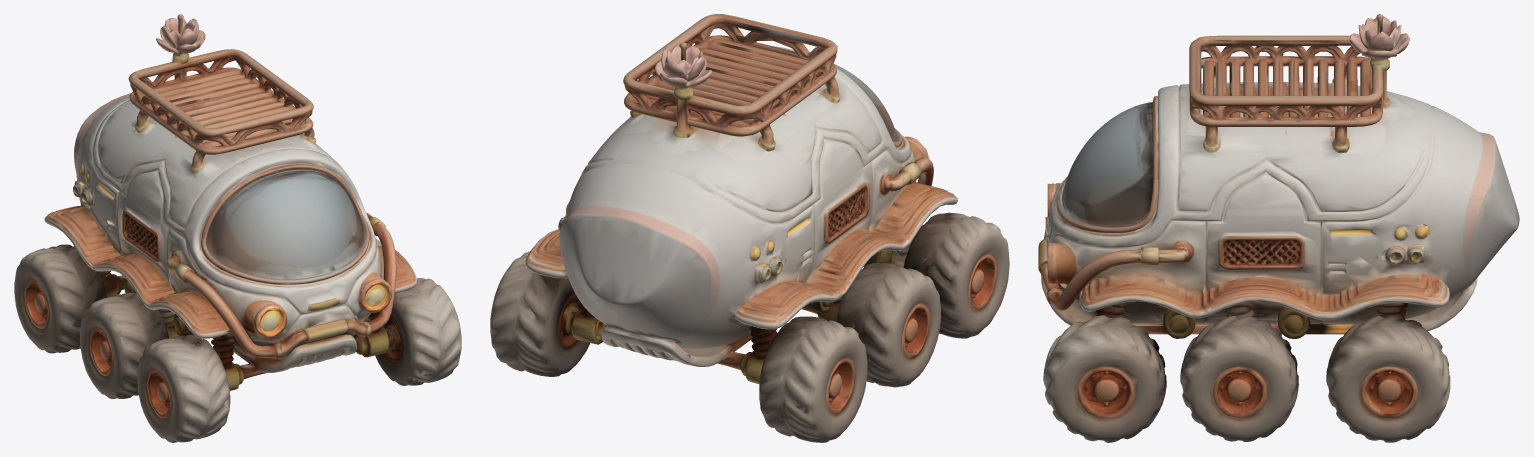
File: rover.glb
3 views of the same model, side by side, from view 1: azimuth 30°, elevation 25°; view 2: azimuth 150°, elevation 25°; view 3: azimuth 270°, elevation 25° (orthographic). The views are drawn at different scales.
Visible parts, largest first — view 1: node_0; view 2: node_0; view 3: node_0.
Boxes of the visible parts, <box> form: node_0: <box>14,14,461,442</box>; node_0: <box>490,14,1009,442</box>; node_0: <box>1038,14,1519,442</box>.
Bounding box in the file's own units: 0.6822 × 0.7064 × 0.8683.
1 material, 1 textured.
